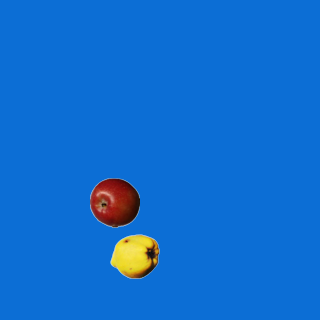Apple Braeburn: (89, 177, 139, 227)
Quince: (109, 231, 159, 281)
